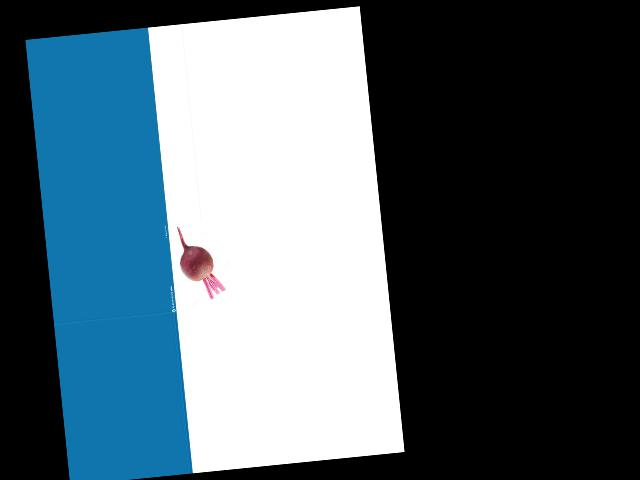beet: (176, 223, 225, 301)
